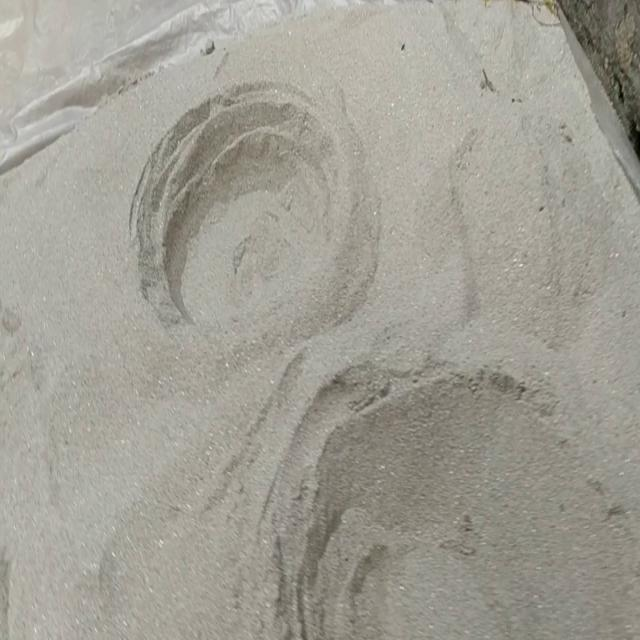C20: (302, 373, 640, 638), (139, 84, 358, 327)
